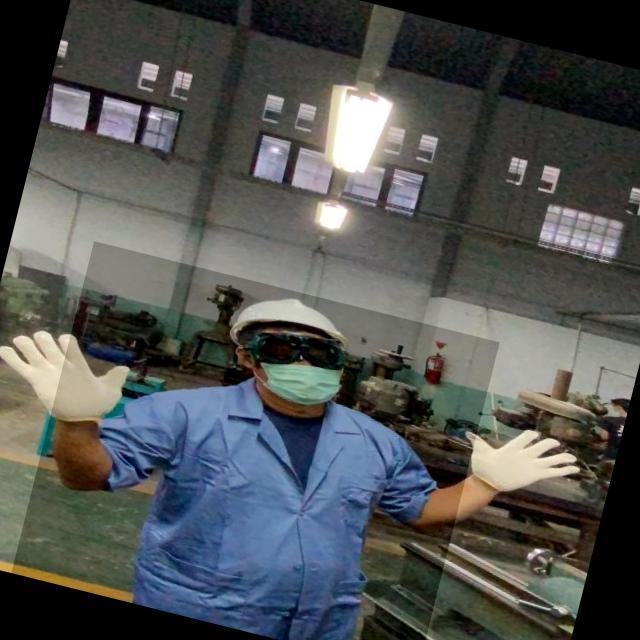Gloves: (0, 325, 147, 422), (456, 416, 582, 499)
Helmet: (216, 279, 366, 377)
Person: (0, 228, 589, 640)
no-vest: (96, 375, 437, 640)
